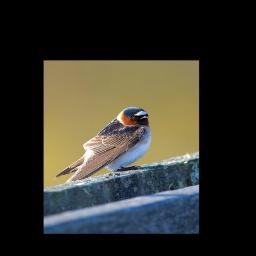Swallow: (54, 106, 153, 186)
